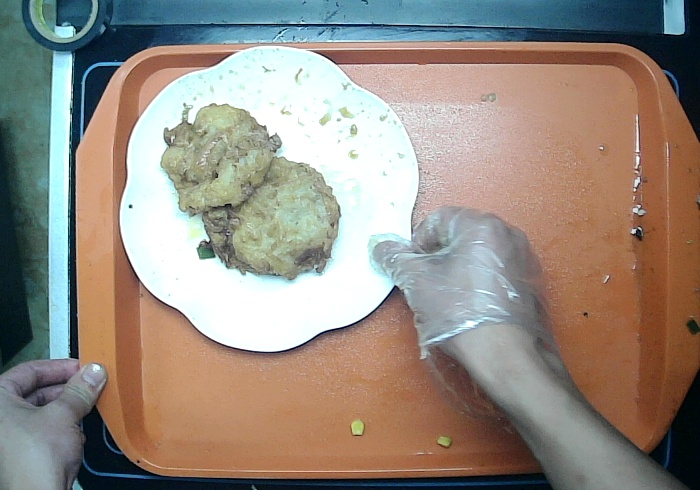HZYJPL-Bai_Se_Hua_Duo_Wan: (115, 43, 420, 355)
